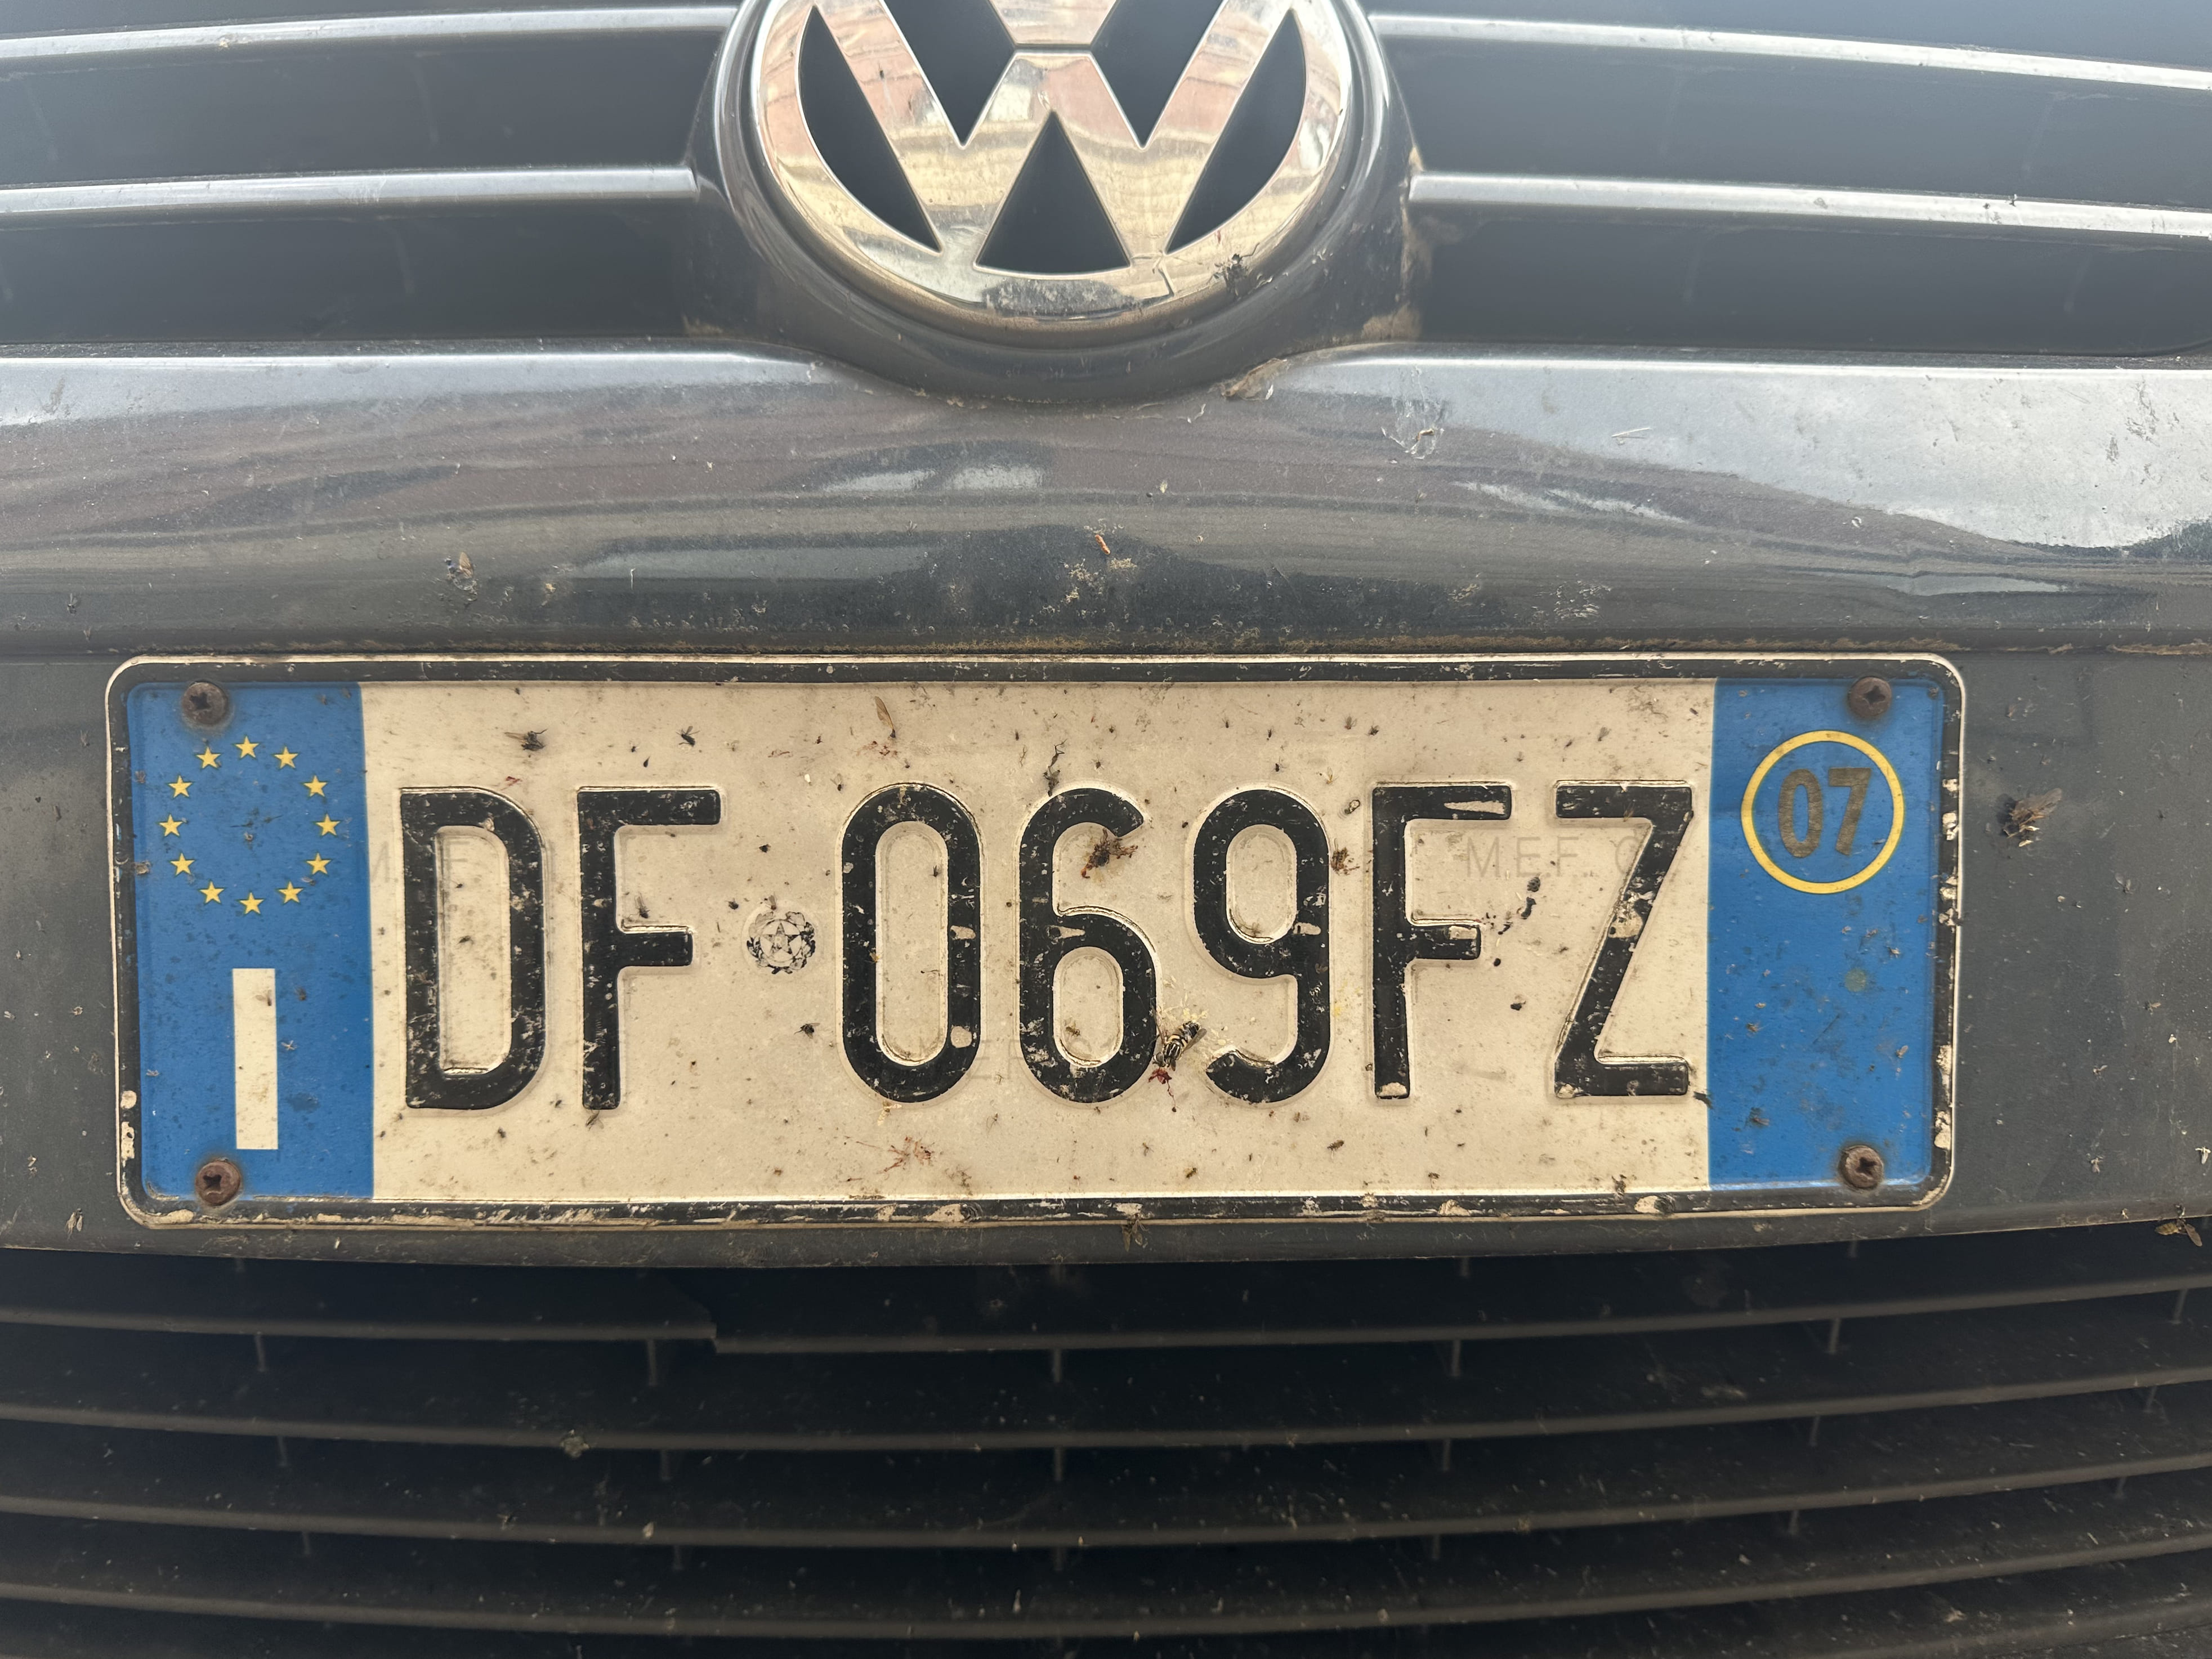license-plate: (102, 655, 1970, 1232)
